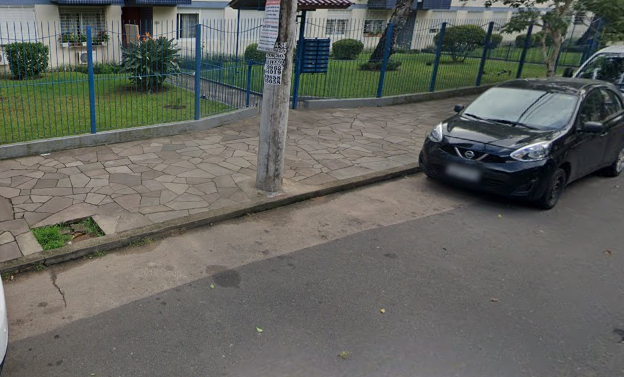vag52: (1, 117, 399, 328)
